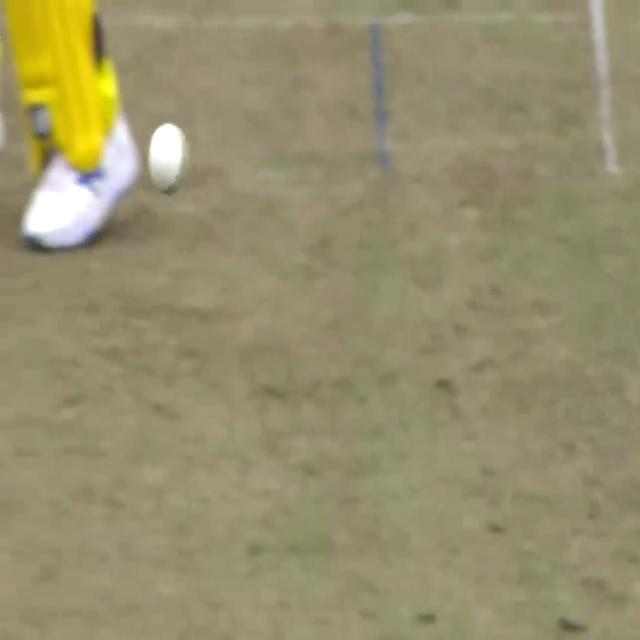ball: (146, 118, 192, 198)
